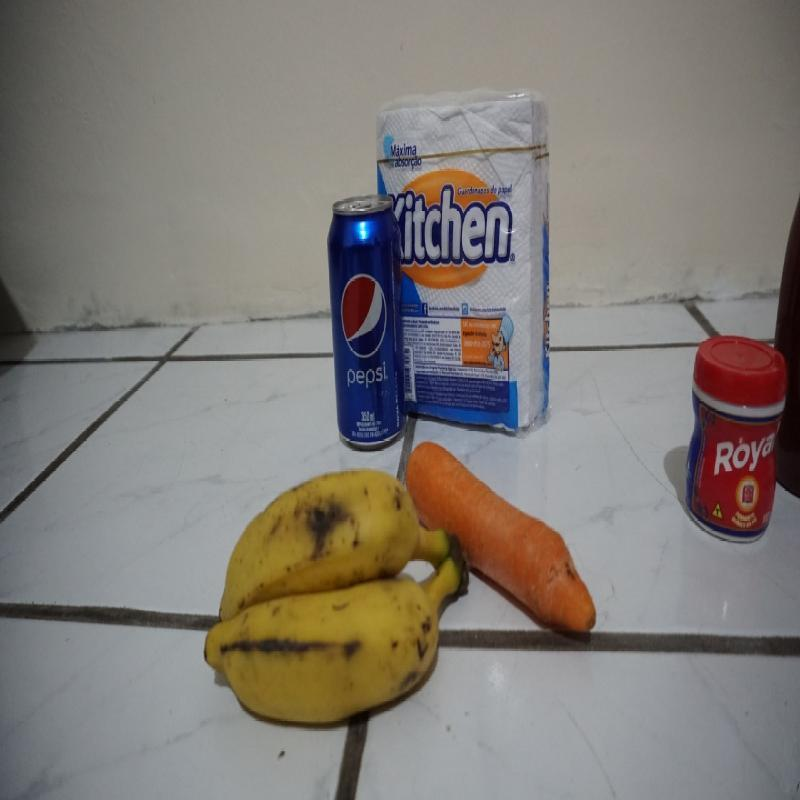Banana: (203, 471, 458, 729)
Carrot: (463, 463, 601, 651)
Napkin: (401, 90, 553, 429)
Soda can: (326, 195, 403, 447)
Yeast: (675, 328, 786, 534)
